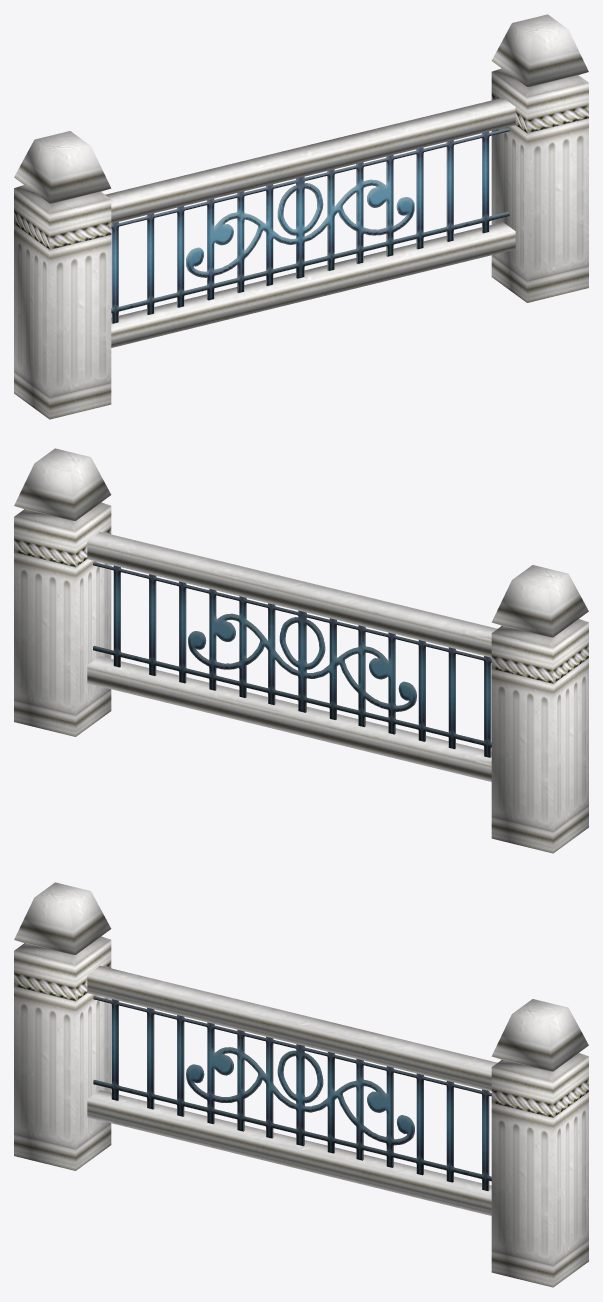
Rendered from fence_002.fbx.
3 views of the same model, one above another, from view 1: azimuth 30°, elevation 25°; view 2: azimuth 150°, elevation 25°; view 3: azimuth 330°, elevation 25° (orthographic).
Parts seen in each view (by area): view 1: polySurface4, polySurface5; view 2: polySurface4, polySurface5; view 3: polySurface4, polySurface5.
Part boxes in pixels (x1,y1,x2,y2): polySurface4: (14,14,588,419); polySurface5: (111,128,509,323); polySurface4: (14,448,588,853); polySurface5: (93,562,491,757); polySurface4: (14,882,588,1287); polySurface5: (93,996,491,1191).
Bounding box in the file's own units: 252 × 114 × 28.86.
